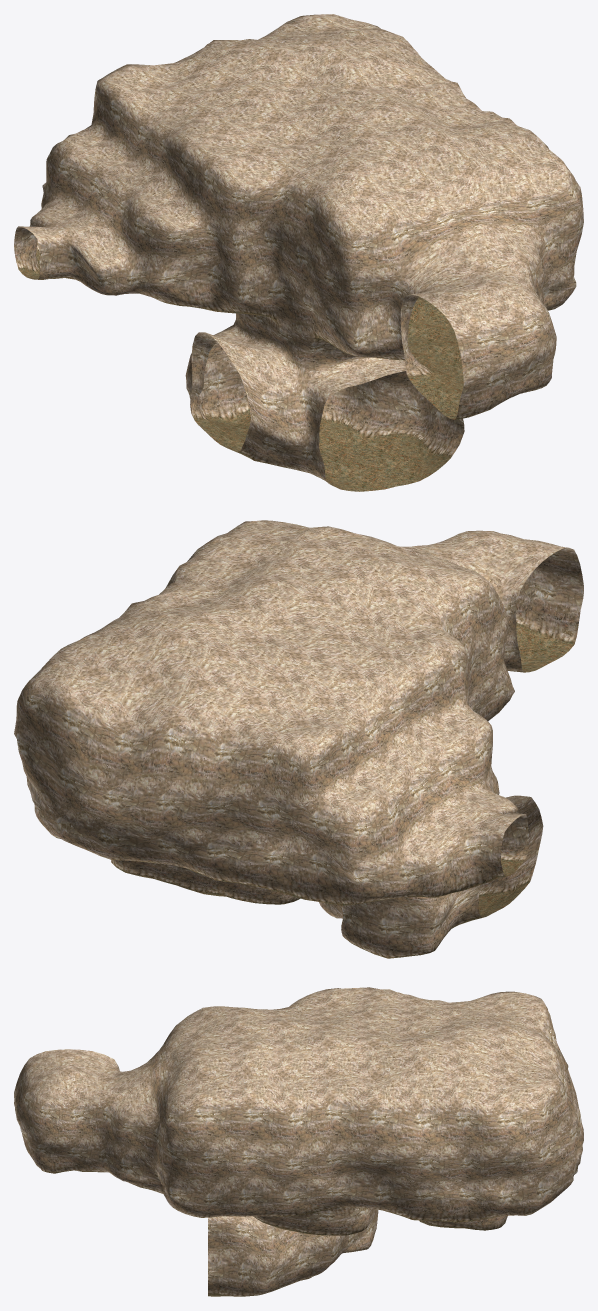
The model's file is thm_all_cave_s01_mirror_r8_mesh_r8.fbx.
The picture shows the model from 3 angles, top to bottom: view 1: azimuth 30°, elevation 25°; view 2: azimuth 150°, elevation 25°; view 3: azimuth 270°, elevation 25°; orthographic projection. The views are drawn at different scales.
Parts seen in each view (by area): view 1: mesh_node; view 2: mesh_node; view 3: mesh_node.
Boxes of the visible parts, bbox=[...] form: mesh_node: bbox=[14, 14, 583, 491]; mesh_node: bbox=[14, 520, 583, 958]; mesh_node: bbox=[14, 987, 583, 1296].
Size of the model in its own units: 94.34 by 69.23 by 131.
